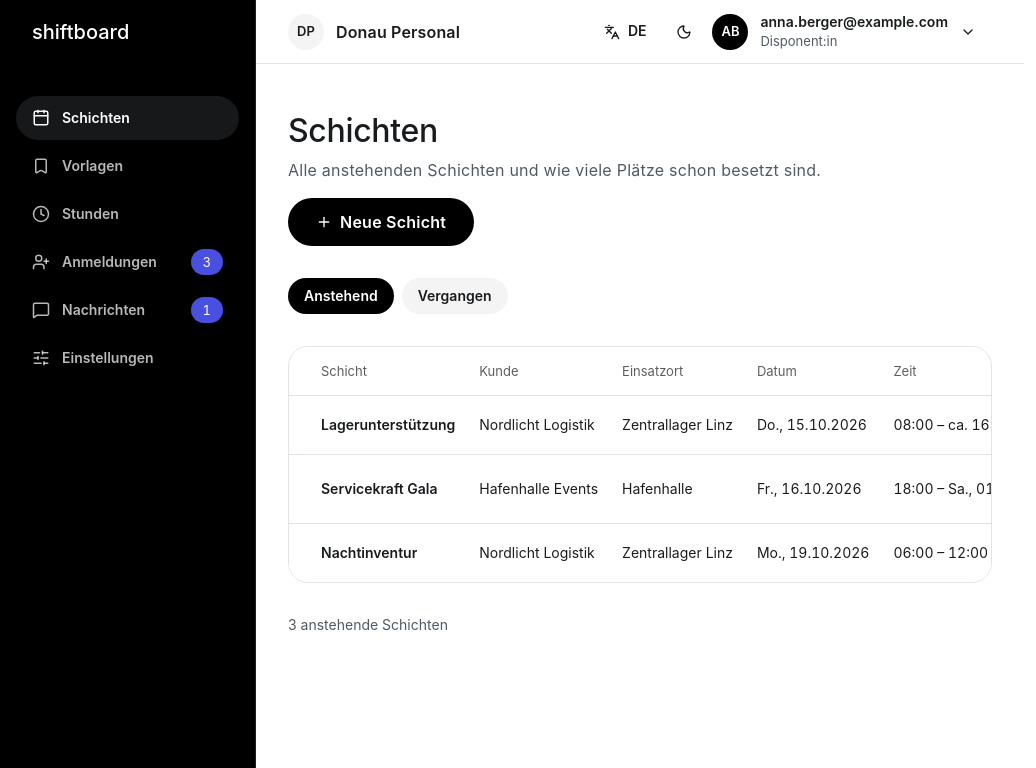
it: upcoming shifts › switches to the shifts that have ended
The image size is (1036, 768).
Click the link "Vergangen": (455, 296) [402,278,508,314]
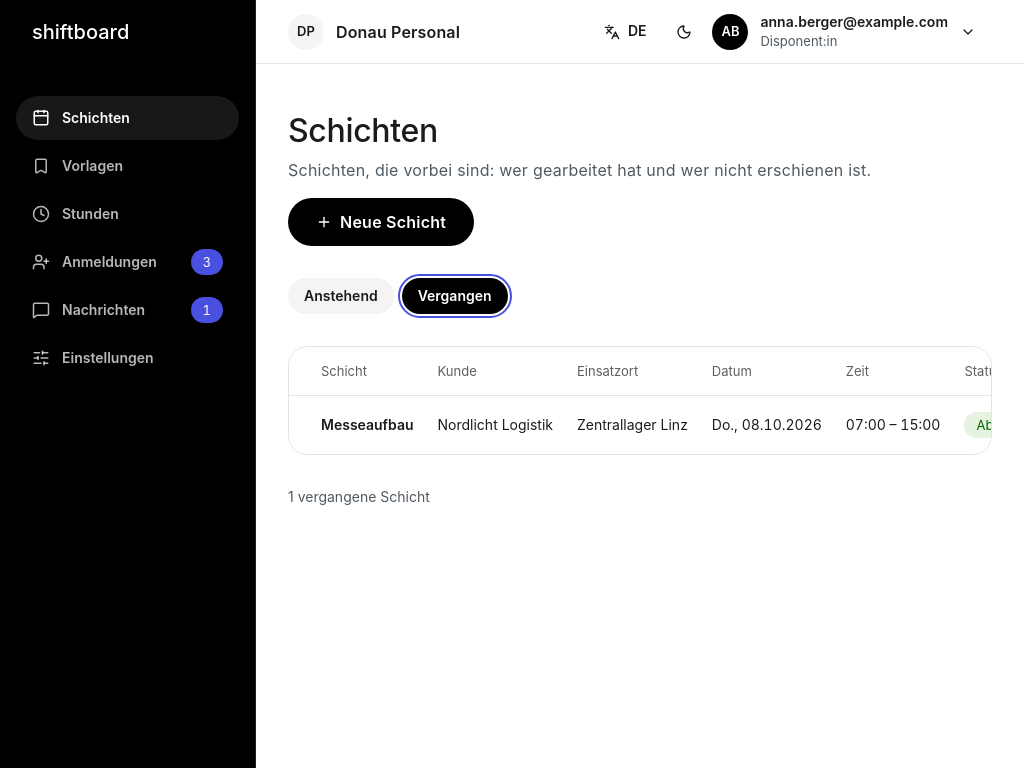
Result: the row "Messeaufbau" is shown at [289,395,992,454]
Result: the text "1 vergangene Schicht" is shown at [288,487,430,507]
Result: the link "Lagerunterstützung" is gone
